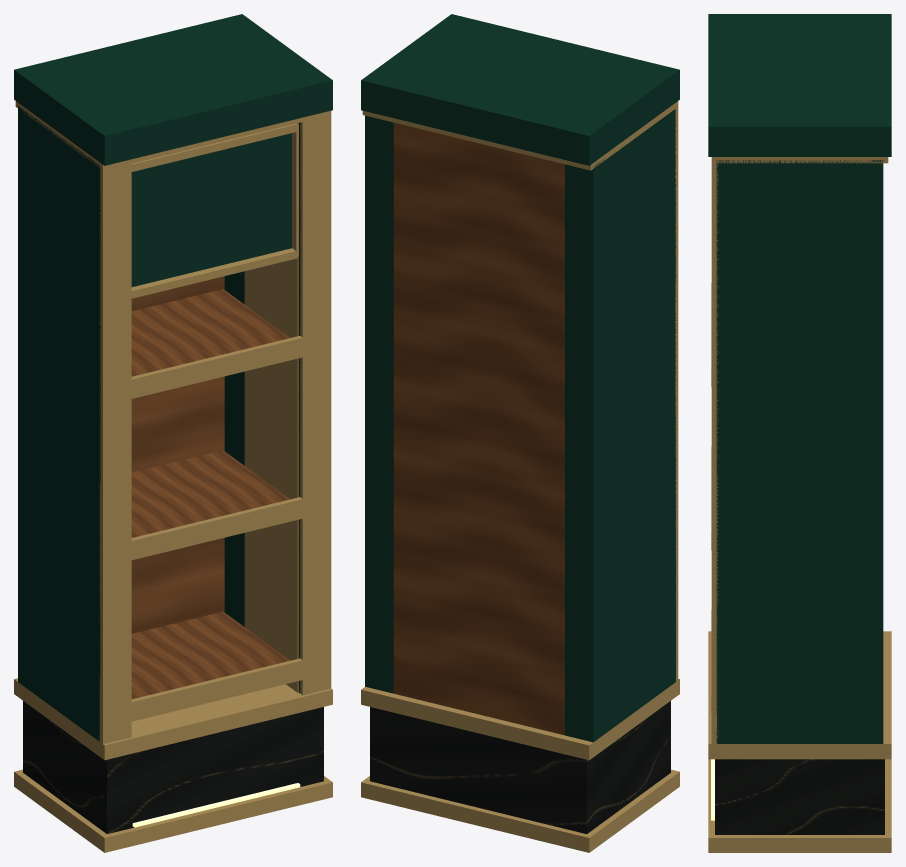
The picture shows the model from 3 angles, left to right: view 1: azimuth 30°, elevation 25°; view 2: azimuth 150°, elevation 25°; view 3: azimuth 270°, elevation 25°; orthographic projection.
Visible parts, largest first — view 1: cabinet_left_pillar, cabinet_crown, cabinet_stone_base, trim_left_front, brand_header_panel, trim_right_front, trim_right_inner, cabinet_back, shelf_2, shelf_3, shelf_1, trim_base_top (+10 smaller); view 2: cabinet_back, cabinet_left_pillar, cabinet_crown, cabinet_stone_base, cabinet_right_pillar, trim_base_plinth, trim_base_top, trim_left_front, trim_crown_lip; view 3: cabinet_right_pillar, cabinet_crown, cabinet_stone_base, trim_base_top, trim_base_plinth, trim_right_front, trim_crown_lip.
Boxes of the visible parts, box(x1,y1,x2,y2) form: cabinet_left_pillar: box(18, 106, 100, 741); cabinet_crown: box(14, 14, 332, 165); cabinet_stone_base: box(23, 701, 323, 833); trim_left_front: box(99, 161, 131, 743); brand_header_panel: box(131, 133, 291, 286); trim_right_front: box(299, 114, 331, 695); trim_right_inner: box(244, 123, 298, 692); cabinet_back: box(131, 276, 224, 633); shelf_2: box(131, 450, 289, 537); shelf_3: box(131, 289, 289, 376); shelf_1: box(131, 611, 289, 699); trim_base_top: box(14, 678, 332, 760); cabinet_back: box(393, 122, 564, 735); cabinet_left_pillar: box(565, 109, 675, 742); cabinet_crown: box(361, 14, 679, 165); cabinet_stone_base: box(370, 701, 670, 833); cabinet_right_pillar: box(365, 115, 393, 693); trim_base_plinth: box(361, 769, 679, 852); trim_base_top: box(361, 678, 679, 760); trim_left_front: box(675, 107, 678, 681); trim_crown_lip: box(362, 101, 678, 170); cabinet_right_pillar: box(716, 160, 883, 743); cabinet_crown: box(708, 14, 891, 156); cabinet_stone_base: box(715, 759, 884, 834); trim_base_top: box(708, 631, 891, 759); trim_base_plinth: box(708, 759, 891, 852); trim_right_front: box(711, 163, 718, 743); trim_crown_lip: box(711, 157, 888, 163).
Bounding box in the file's own units: 0.8 × 2.4 × 0.55.
5 materials, 2 textured.
